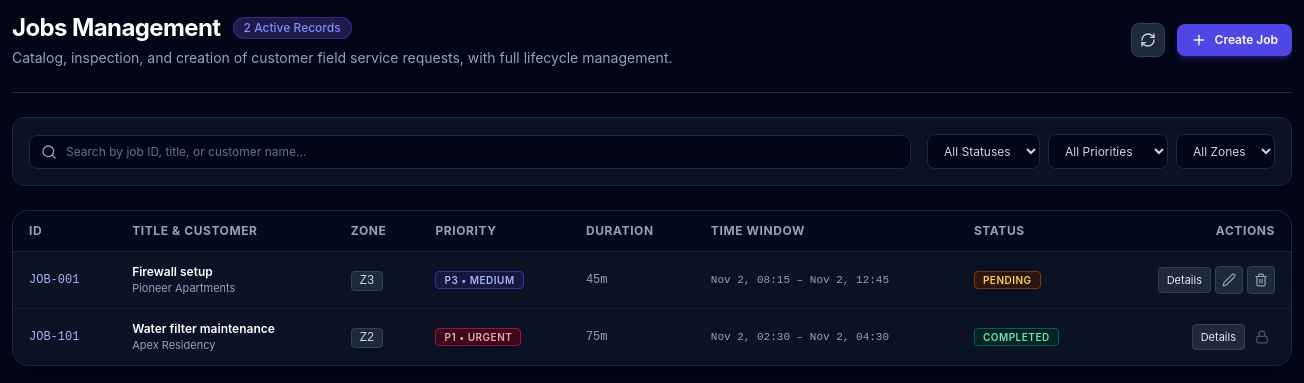
it: JobsPage Component › filters jobs using status dropdown
The width and height of the screenshot is (1304, 383).
Expected: the text "Firewall setup" is shown, [132,264,213,279]
Select "Completed" in the dropdown named "Filter by Status" at (984, 152), box [927,134,1040,169]
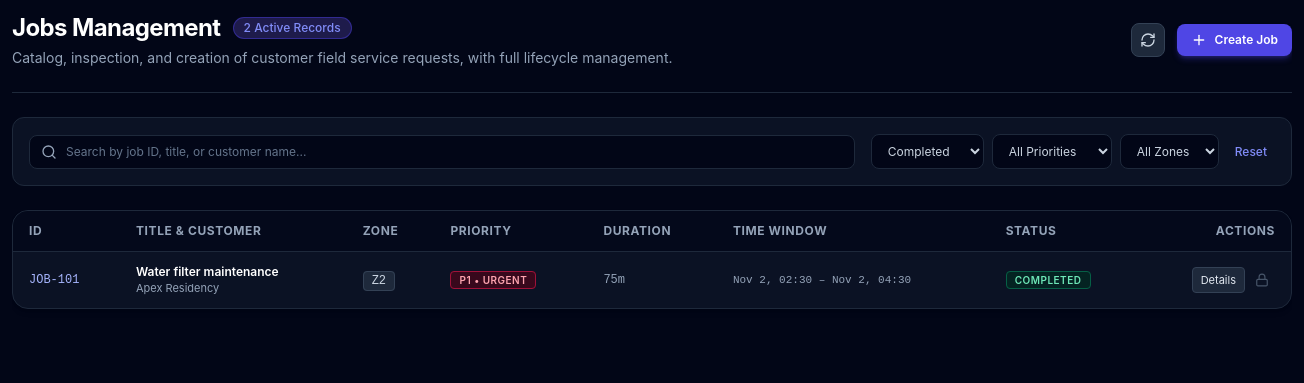
Expected: the text "Water filter maintenance" is shown, [136,264,279,279]
Result: the text "Firewall setup" is gone
